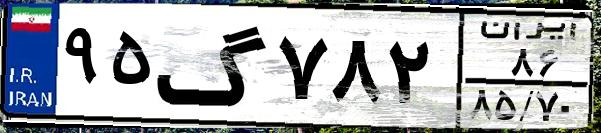0: (560, 70, 590, 125)
2: (385, 28, 445, 110)
5: (110, 28, 156, 98), (495, 70, 520, 125)
6: (537, 27, 568, 80)
7: (270, 28, 330, 110), (535, 70, 560, 125)
8: (330, 28, 385, 110), (508, 27, 537, 80), (470, 70, 495, 125)
9: (57, 26, 110, 100)
گ: (156, 12, 270, 120)
